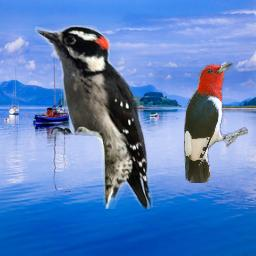Woodpecker: (35, 25, 153, 209), (183, 62, 248, 183)
